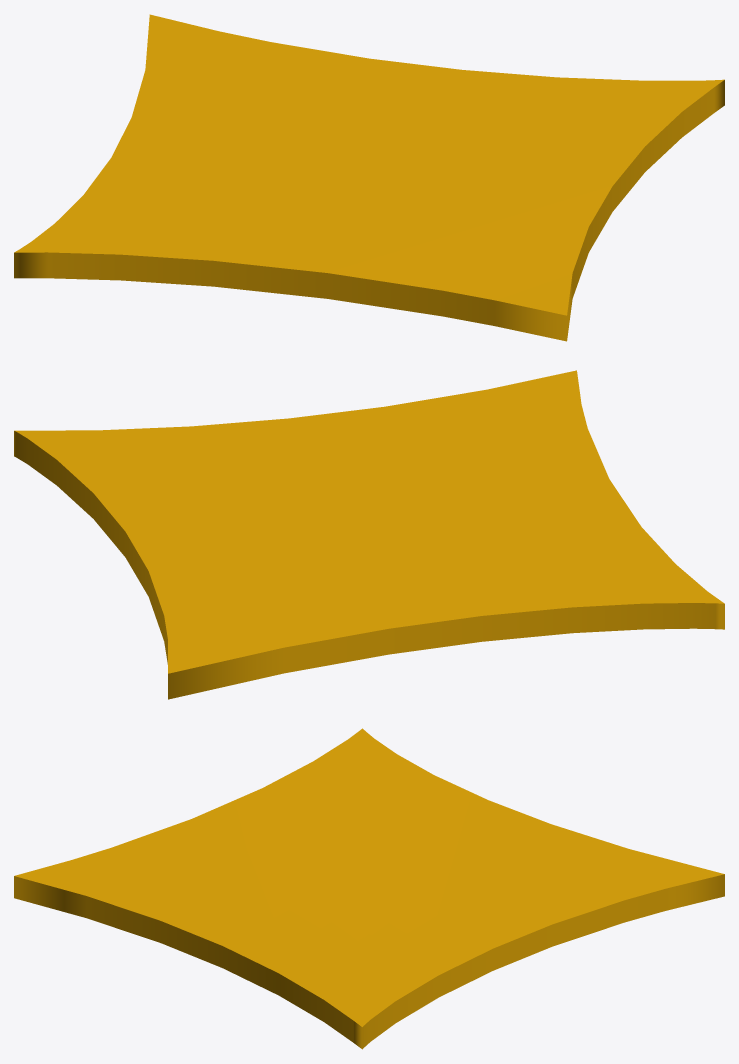
The model's file is piece-papier.glb.
3 renders of one model, top to bottom at view 1: azimuth 30°, elevation 25°; view 2: azimuth 150°, elevation 25°; view 3: azimuth 270°, elevation 25°, orthographic. The views are drawn at different scales.
Parts seen in each view (by area): view 1: piece_principale; view 2: piece_principale; view 3: piece_principale.
Boxes of the visible parts, x1,y1,x2,y2 form: piece_principale: [14, 14, 724, 341]; piece_principale: [14, 370, 724, 699]; piece_principale: [14, 728, 724, 1049].
Bounding box in the file's own units: 2.02 × 0.0711 × 2.03.
